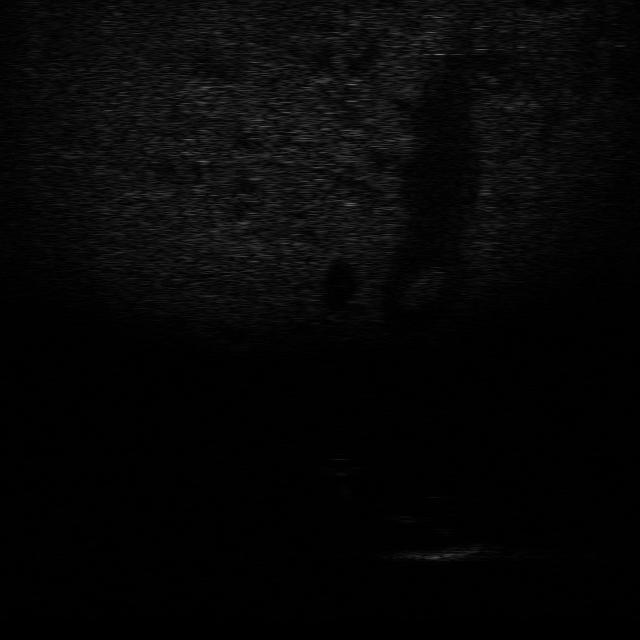ball: (386, 494, 460, 526)
metal bucket: (315, 450, 364, 478)
tyre: (384, 536, 504, 565)
